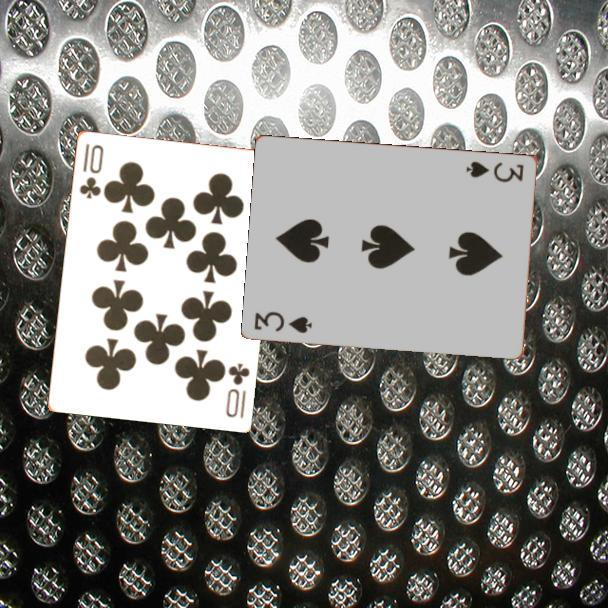c10: (76, 139, 106, 202), (222, 359, 252, 421)
s03: (463, 157, 527, 185), (251, 308, 315, 336)
